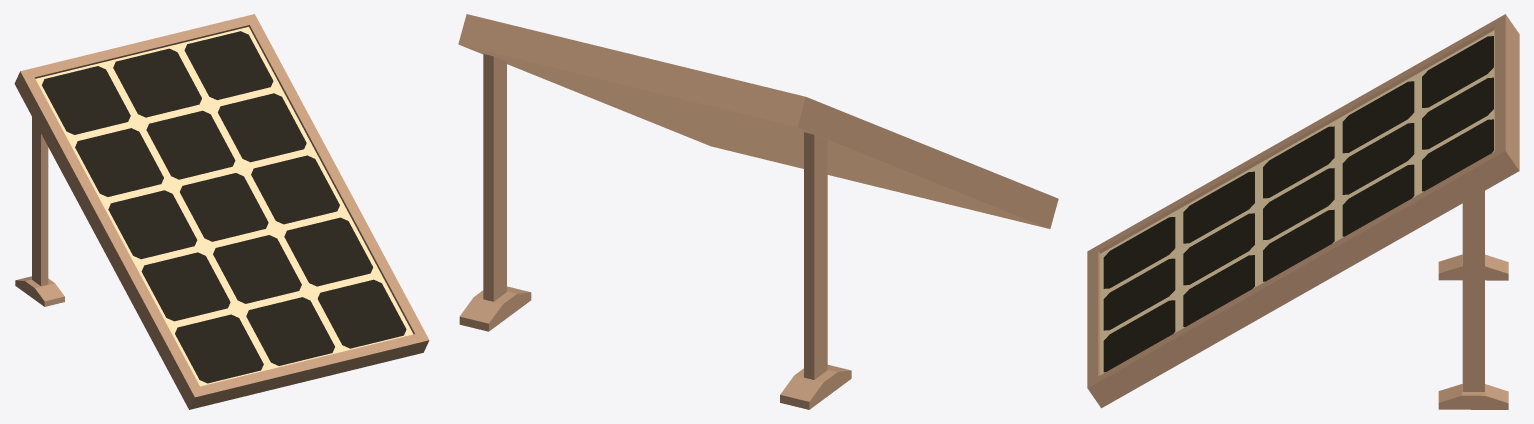
The model's file is n_solarpanel_ground.glb.
3 renders of one model, left to right at view 1: azimuth 30°, elevation 25°; view 2: azimuth 150°, elevation 25°; view 3: azimuth 270°, elevation 25°, orthographic. The views are drawn at different scales.
Parts seen in each view (by area): view 1: SolarPanel_Ground; view 2: SolarPanel_Ground; view 3: SolarPanel_Ground.
Part boxes in pixels (x1,y1,x2,y2): SolarPanel_Ground: (14,14,429,409); SolarPanel_Ground: (458,14,1058,409); SolarPanel_Ground: (1087,14,1519,409).
Bounding box in the file's own units: 1.29 × 1.1 × 1.67.
1 material, 1 textured.
